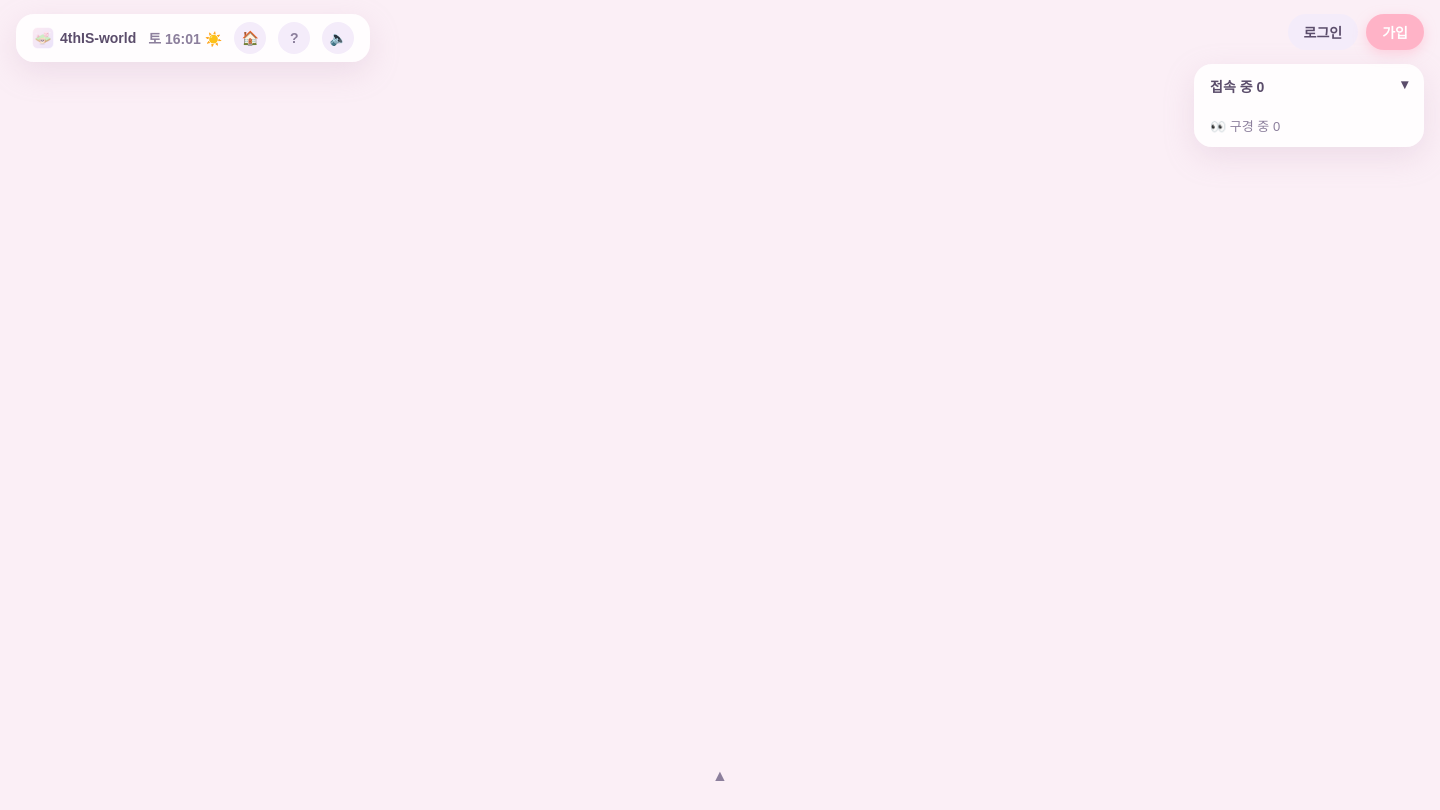
Test: UiRoot › 게스트: 로그인·가입 버튼이 모달을 연다
The width and height of the screenshot is (1440, 810).
Click the button "가입": (1395, 32) [1366,14,1424,50]
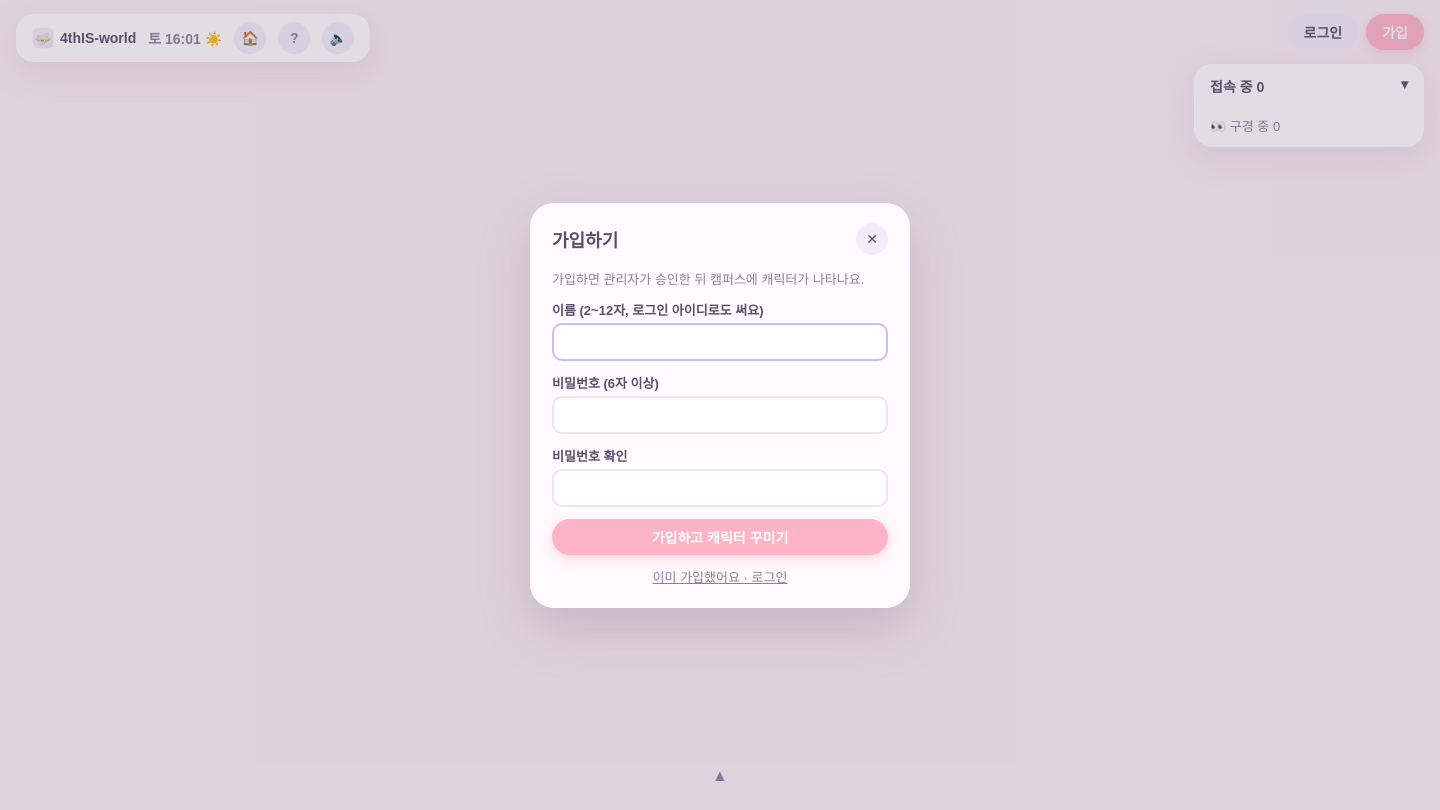
Expected: the dialog "가입하기" is shown, [530,202,910,608]
Click the button named "닫기": (872, 238) [856,222,888,254]
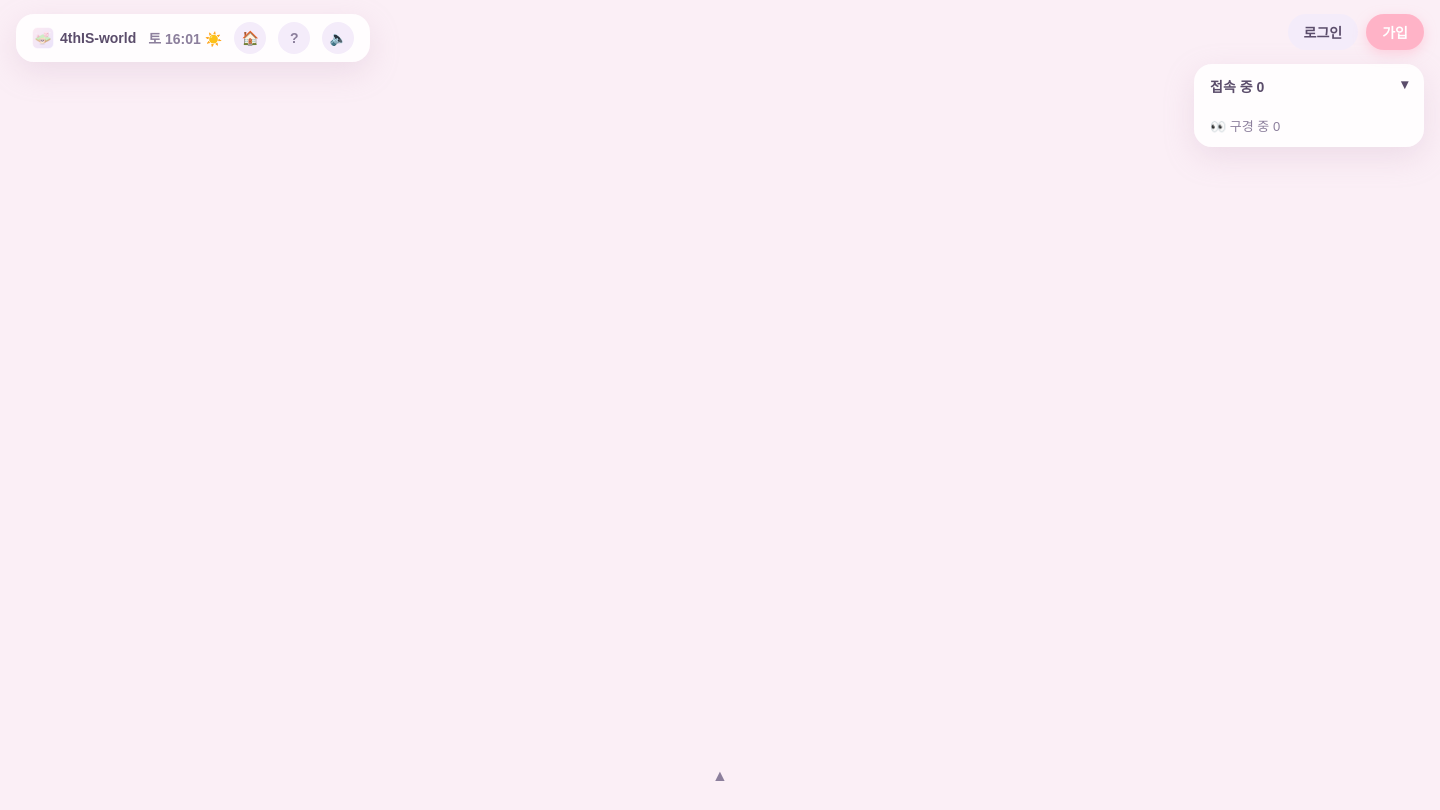
Expected: the dialog is gone
Click the button "로그인": (1323, 32) [1288,14,1358,50]
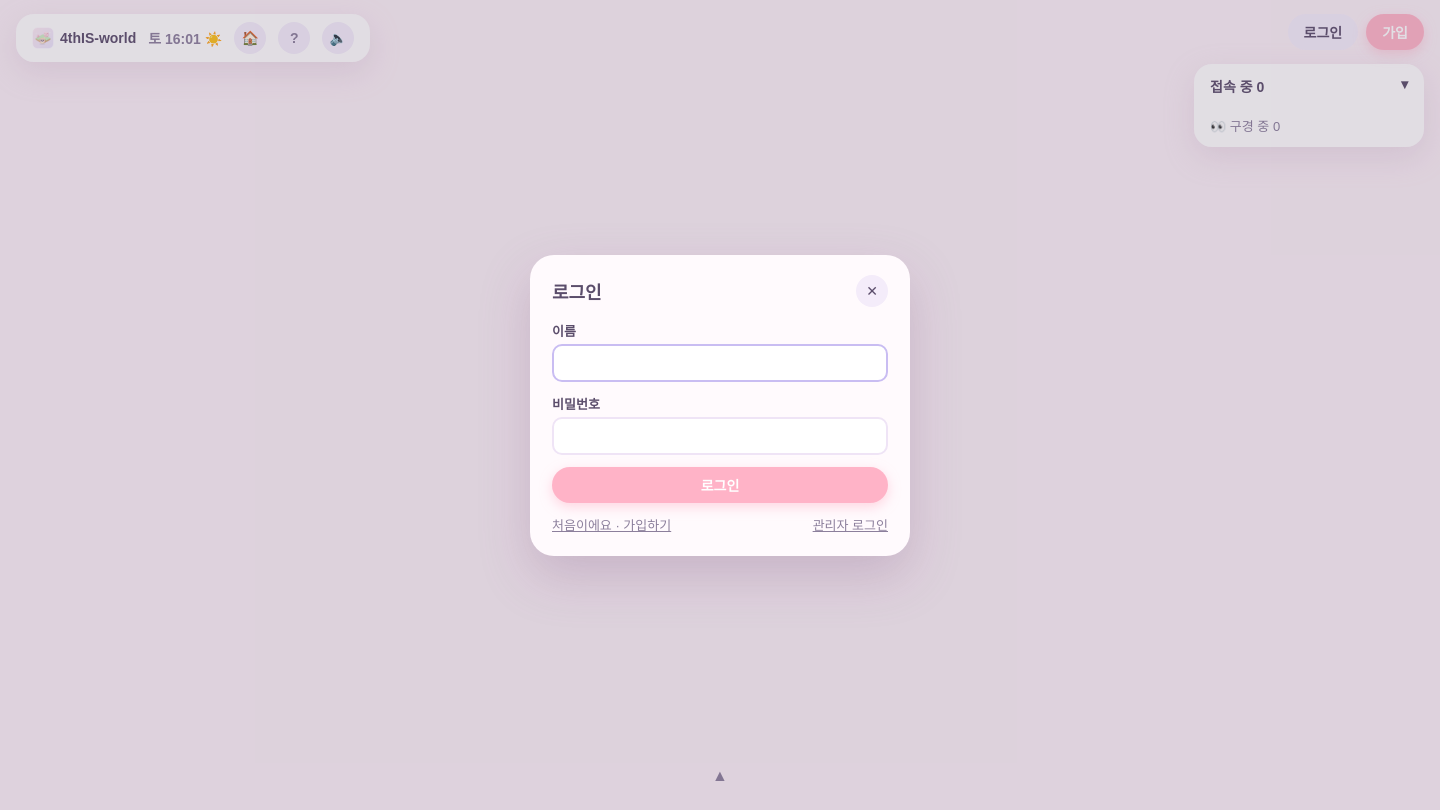
Expected: the dialog "로그인" is shown, [530,254,910,556]
